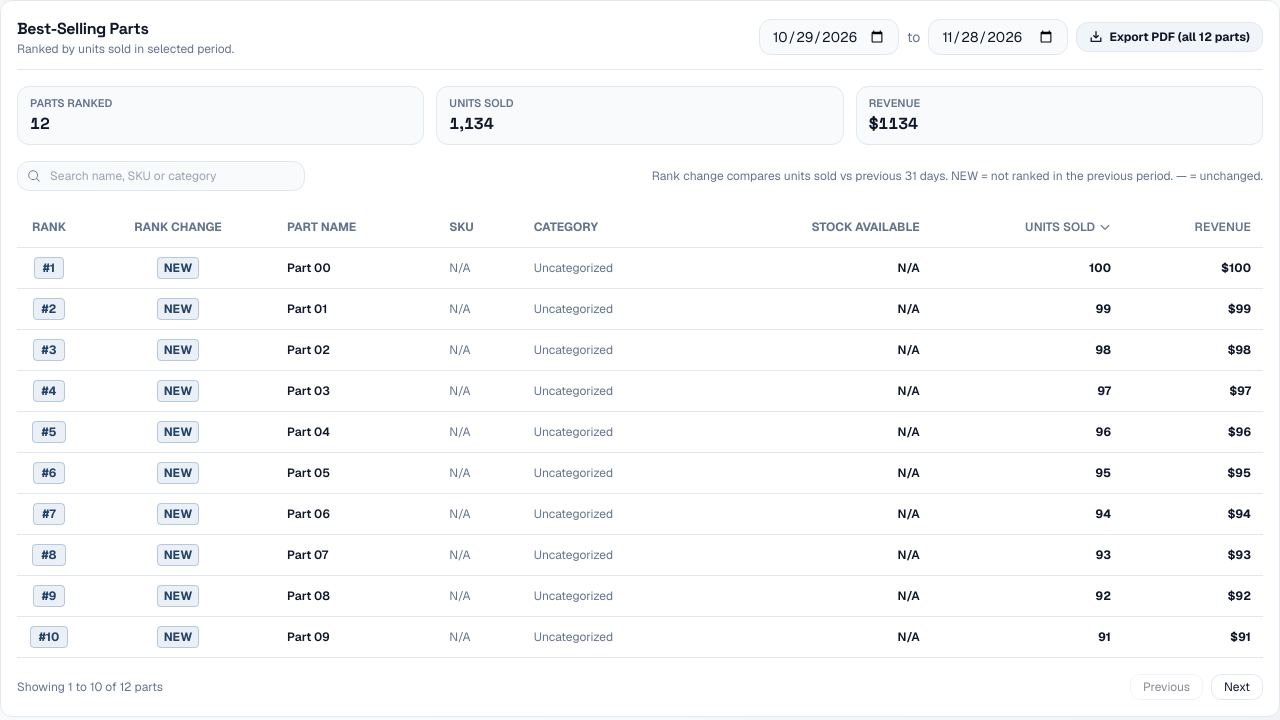
Scenario: Best-selling parts: search › resets to page 1 when search or sort changes
Click the button "Next" at (1237, 686), box [1211,674,1263,700]
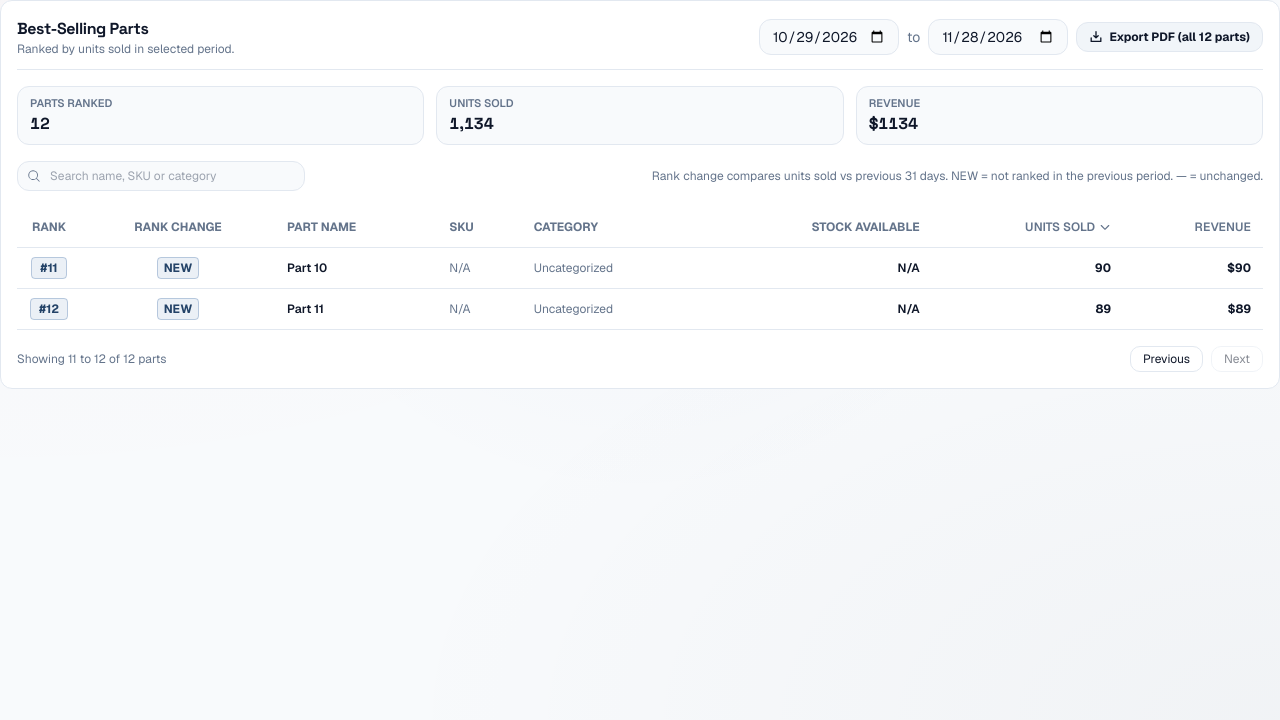
Expected: the text "Showing 11 to 12 of 12 parts" is shown, [17,350,167,366]
Click the button "Revenue" at (1223, 226), box [1195,218,1251,234]
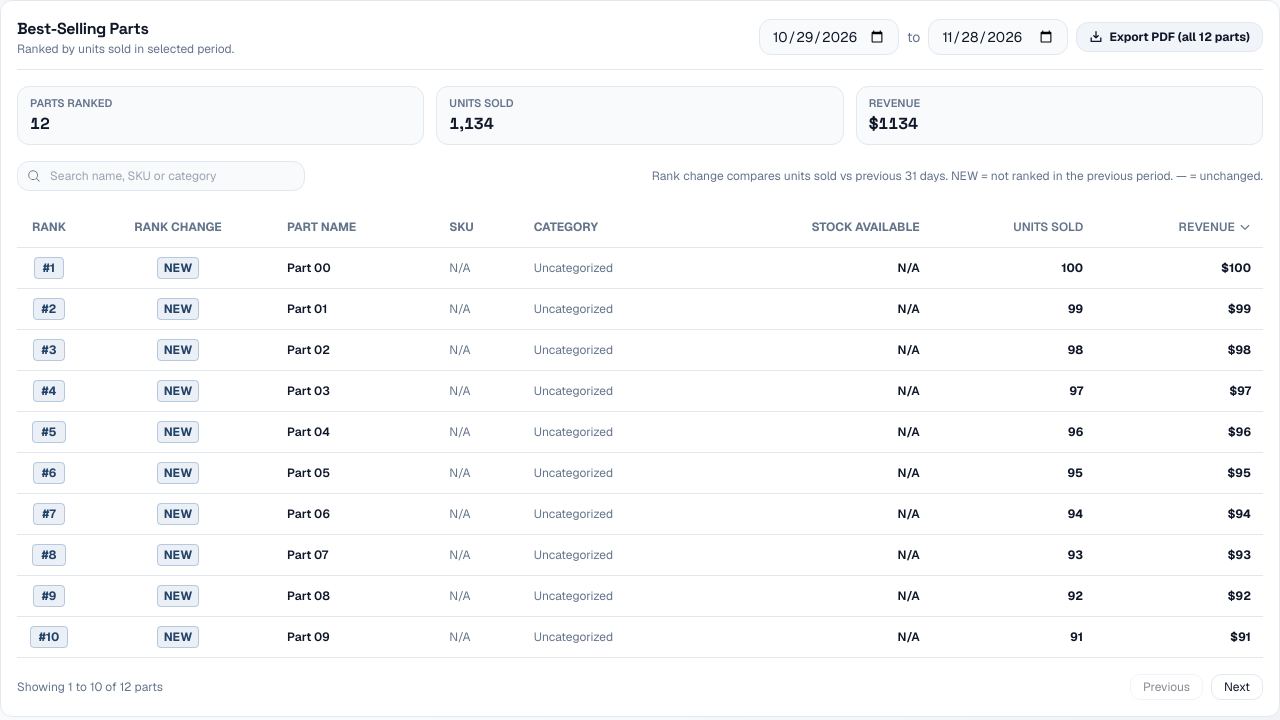
Expected: the text "Showing 1 to 10 of 12 parts" is shown, [17,678,163,694]
Click the button "Next" at (1237, 686), box [1211,674,1263,700]
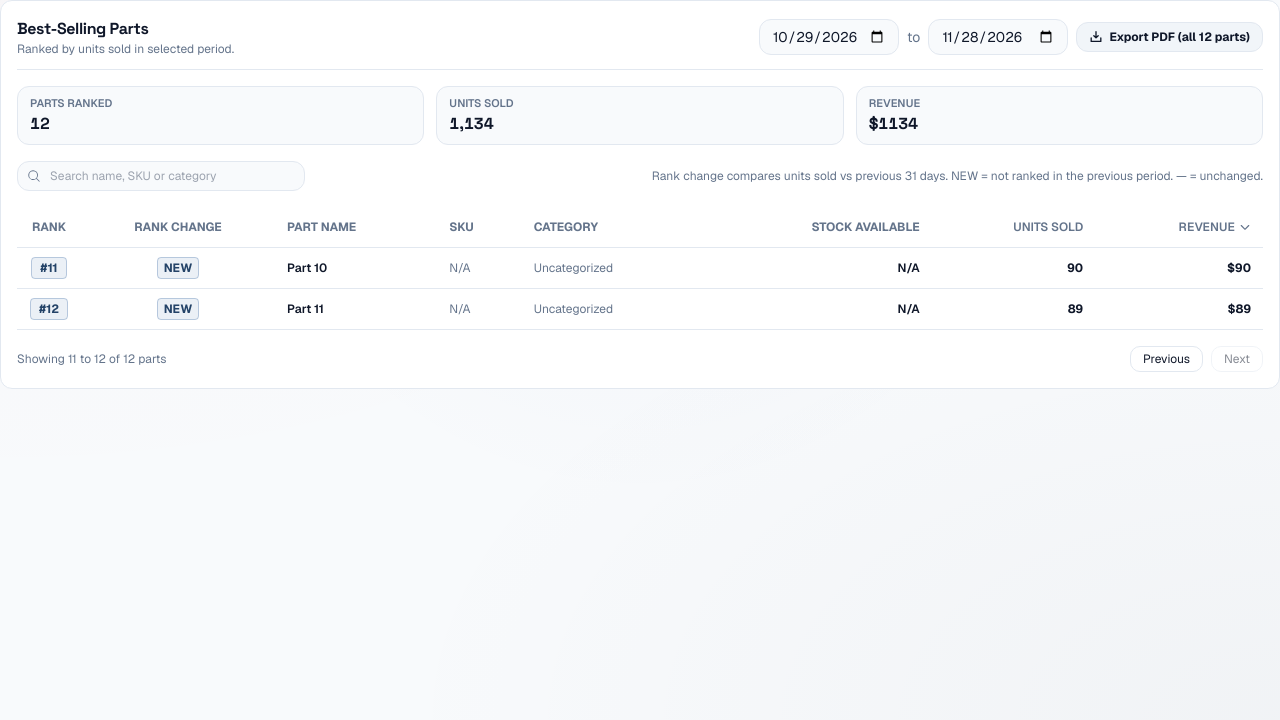
Type "part" into the search field named "Search parts" at (161, 176), box [17,160,305,190]
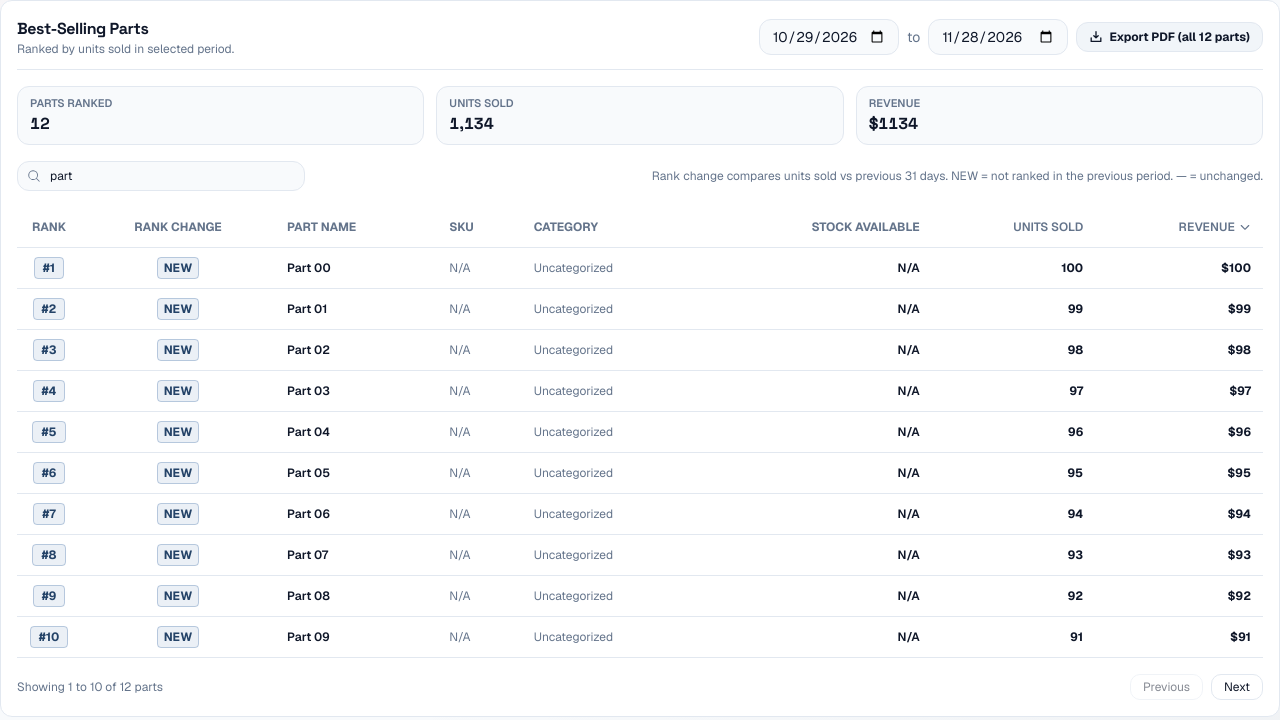
Expected: the navigation bar named "pagination" is shown, [17,656,1263,700]
Expected: the text "Showing 1 to 10 of 12 parts" is shown, [17,678,163,694]
